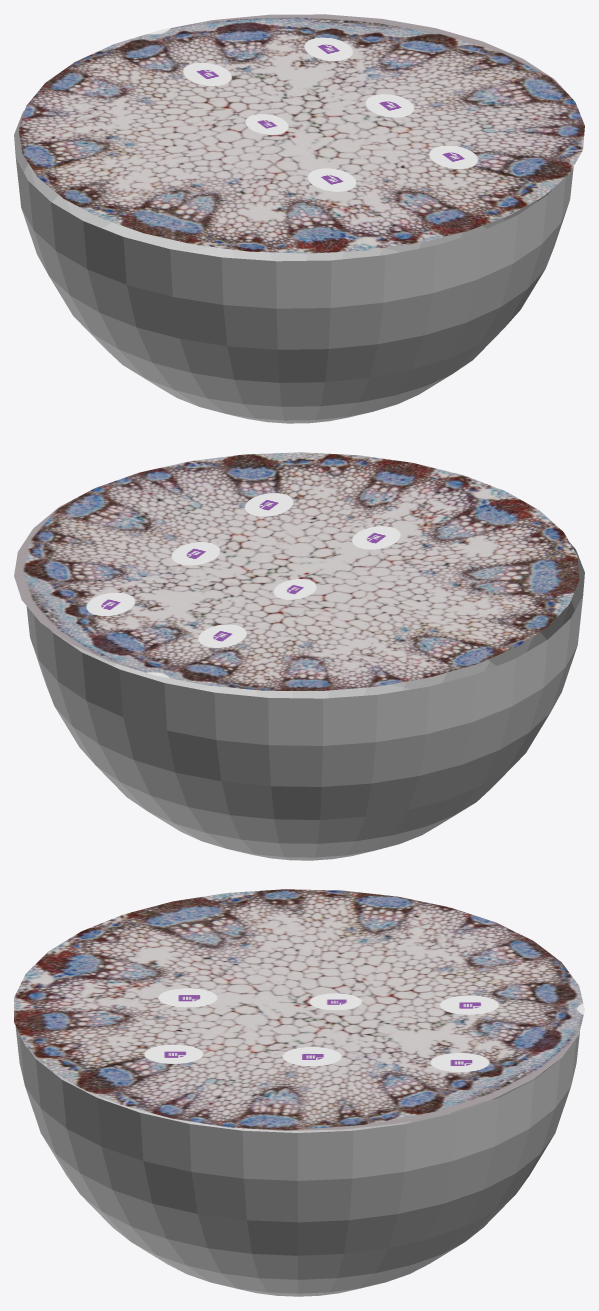
Rendered from batang-mono.fbx.
3 renders of one model, top to bottom at view 1: azimuth 30°, elevation 25°; view 2: azimuth 150°, elevation 25°; view 3: azimuth 270°, elevation 25°, orthographic.
Parts seen in each view (by area): view 1: Batang-Mono-1; view 2: Batang-Mono-1; view 3: Batang-Mono-1.
Part boxes in pixels (box(x1,y1,x2,y2)): Batang-Mono-1: box(14, 14, 584, 423); Batang-Mono-1: box(14, 452, 584, 860); Batang-Mono-1: box(14, 889, 584, 1296).
Bounding box in the file's own units: 204 × 103 × 201.
